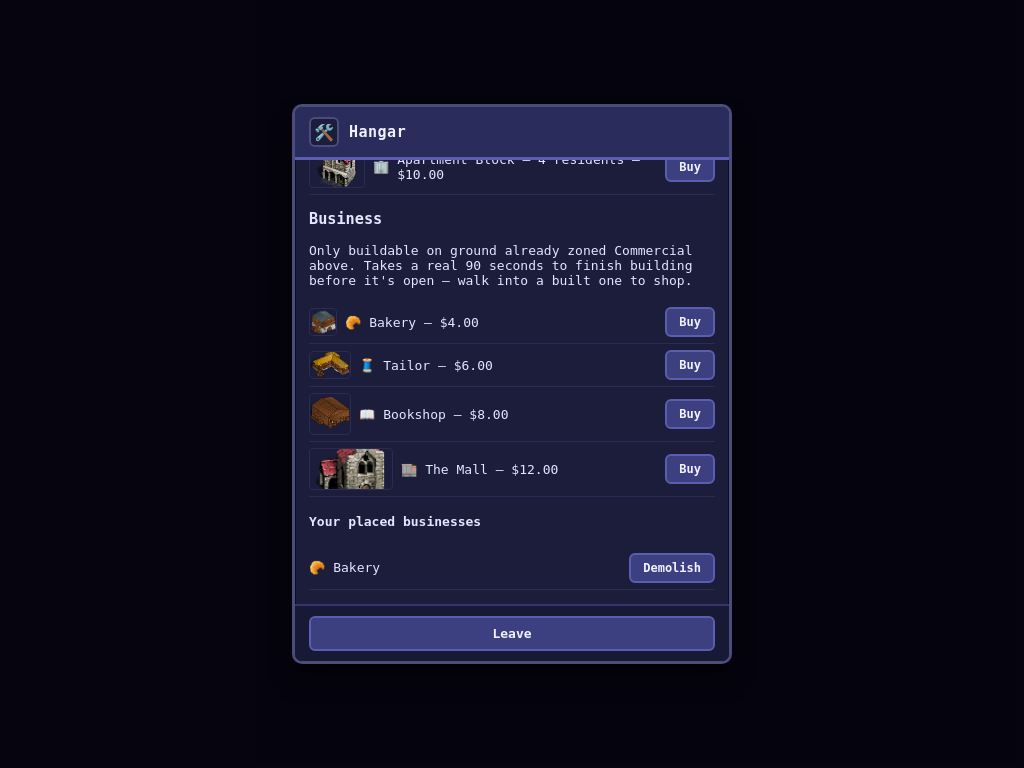
Test case: HangarOverlay › Demolish (wave3-economy-depth.md decision #3) › demolishing a business under construction refunds its full price
This screenshot has width=1024, height=768.
(page scrolled)
Expected: the heading "Your placed businesses" is shown, [309,514,481,529]
Click the button "Demolish".
click(672, 568)  # box [629,553,715,583]
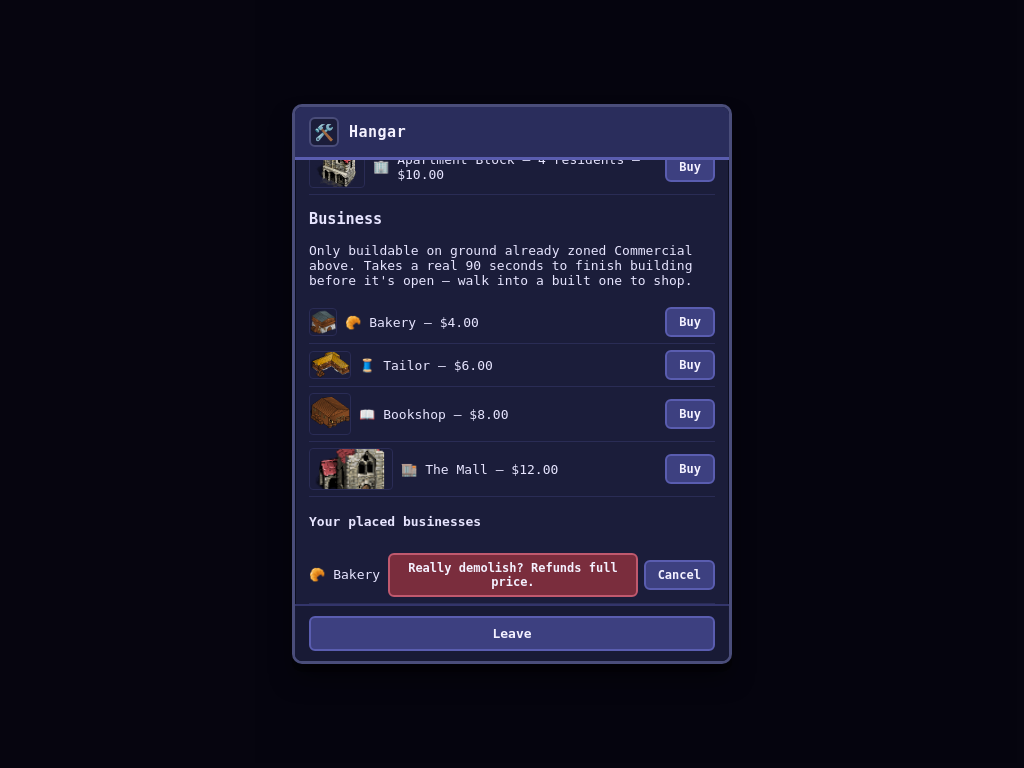
Click the button "Really demolish? Refunds full price.".
click(513, 575)  # box [388,553,638,597]
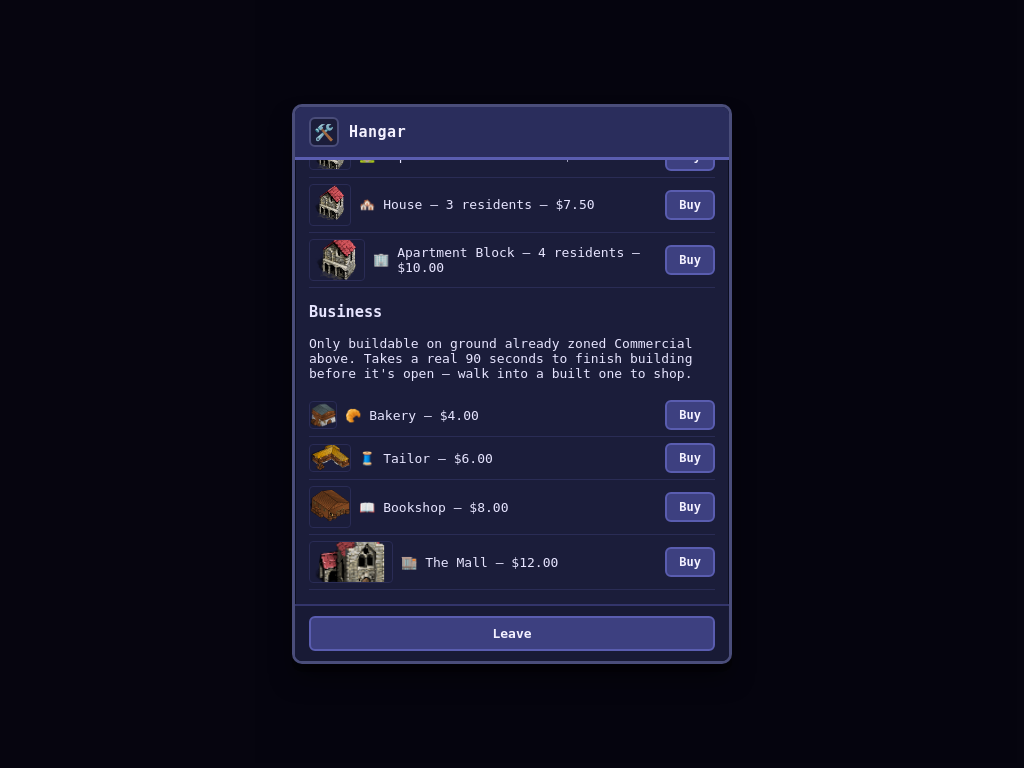
Now the heading "Your placed businesses" is gone
